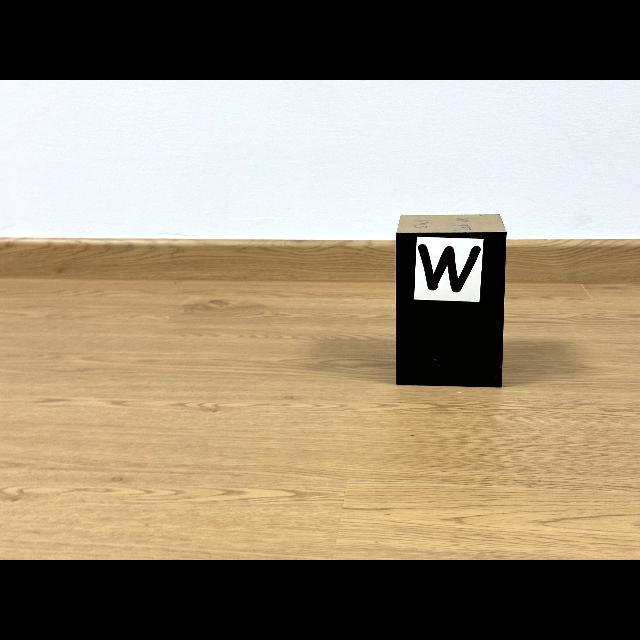W: (418, 244, 481, 292)
